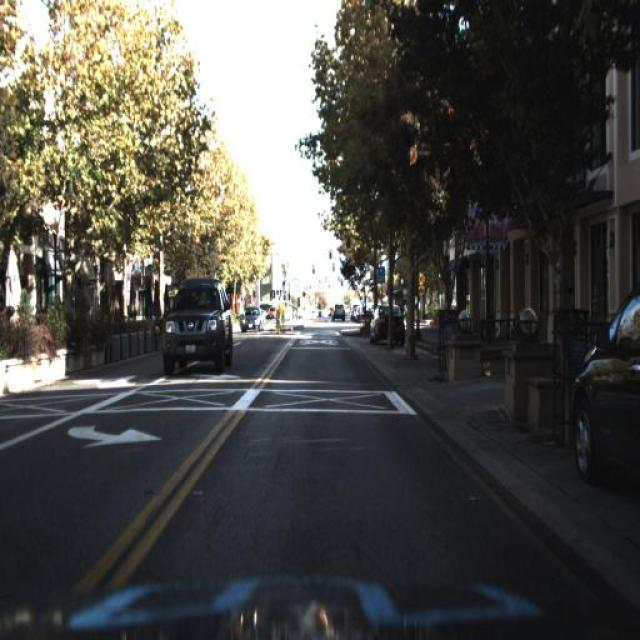car: (569, 284, 640, 508), (156, 273, 238, 376), (162, 278, 233, 376), (368, 298, 403, 350), (236, 302, 266, 333), (330, 296, 349, 329)
